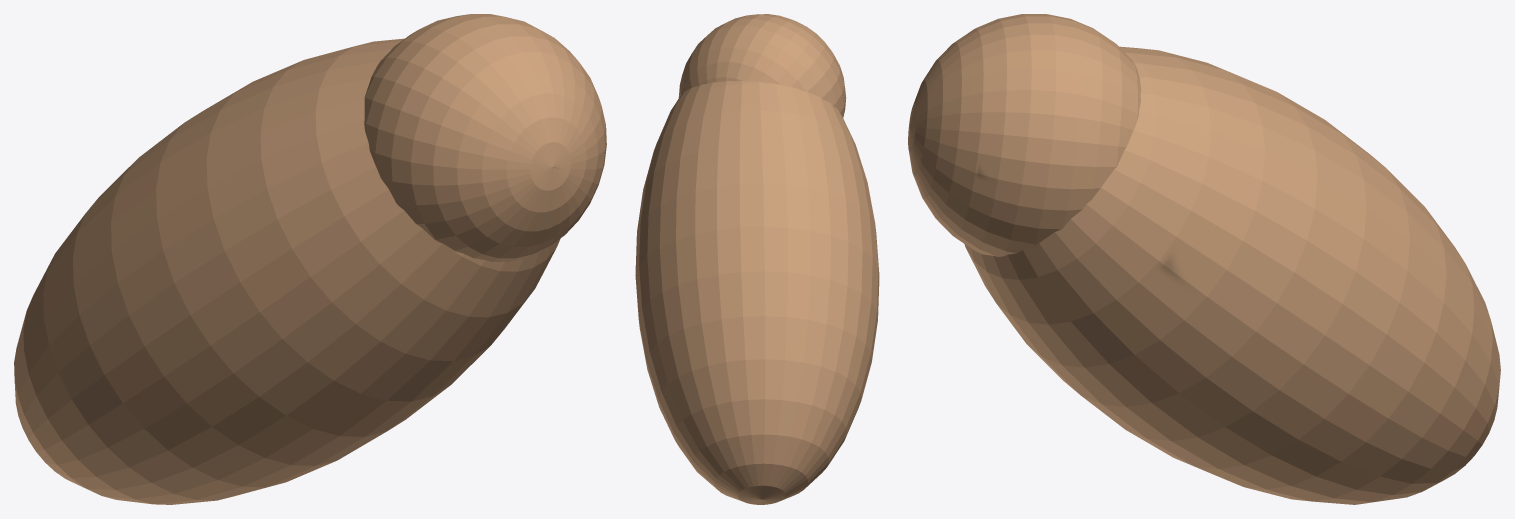
Rendered from AntebrazoDer_Bulls.obj.
3 views of the same model, side by side, from view 1: azimuth 30°, elevation 25°; view 2: azimuth 150°, elevation 25°; view 3: azimuth 270°, elevation 25° (orthographic). The views are drawn at different scales.
Visible parts, largest first — view 1: AntebrazoDer_Bulls; view 2: AntebrazoDer_Bulls; view 3: AntebrazoDer_Bulls.
Boxes of the visible parts, x1,y1,x2,y2 form: AntebrazoDer_Bulls: (14,14,606,504); AntebrazoDer_Bulls: (635,14,879,504); AntebrazoDer_Bulls: (908,14,1500,504).
Bounding box in the file's own units: 1.2 × 1.61 × 1.59.
Materials: 1 (1 with a texture image).
